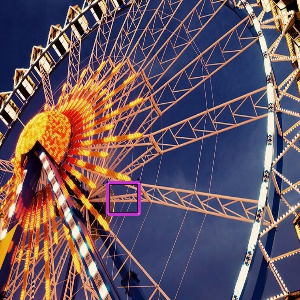square: (105, 180, 141, 216)
